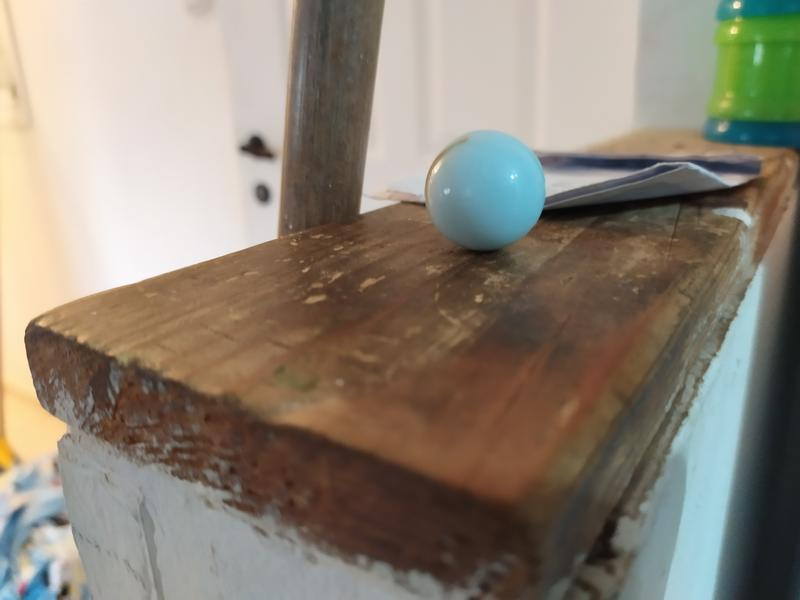Warning: (420, 126, 548, 256)
